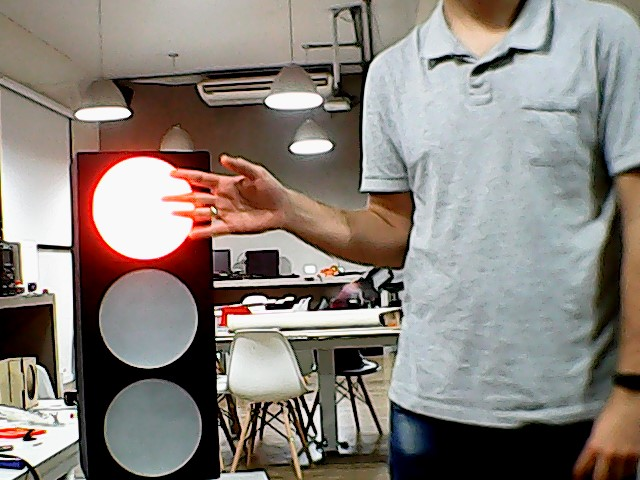vermelho: (69, 138, 219, 480)
